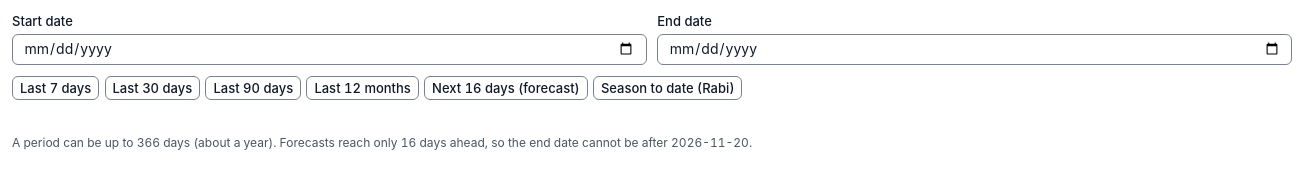
Test case: DateRangeField › applies the "Last 12 months" preset: a full year ending today
The width and height of the screenshot is (1304, 185).
What coordinates should you click on to do the following:
click the button "Last 12 months"
I would click on:
 (363, 88)
Its box is [306, 76, 419, 100].
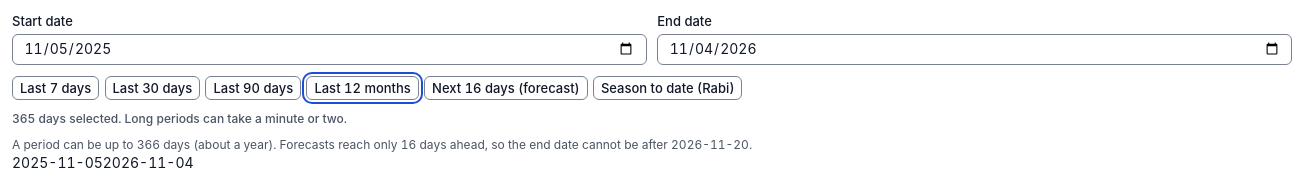
Now the date field labelled "Start date" holds "2025-11-05", box [12, 34, 647, 65]
Now the date field labelled "End date" holds "2026-11-04", box [657, 34, 1292, 65]
Now the text "365 days selected. Long periods can take a minute or two." is shown, box [12, 110, 347, 126]
